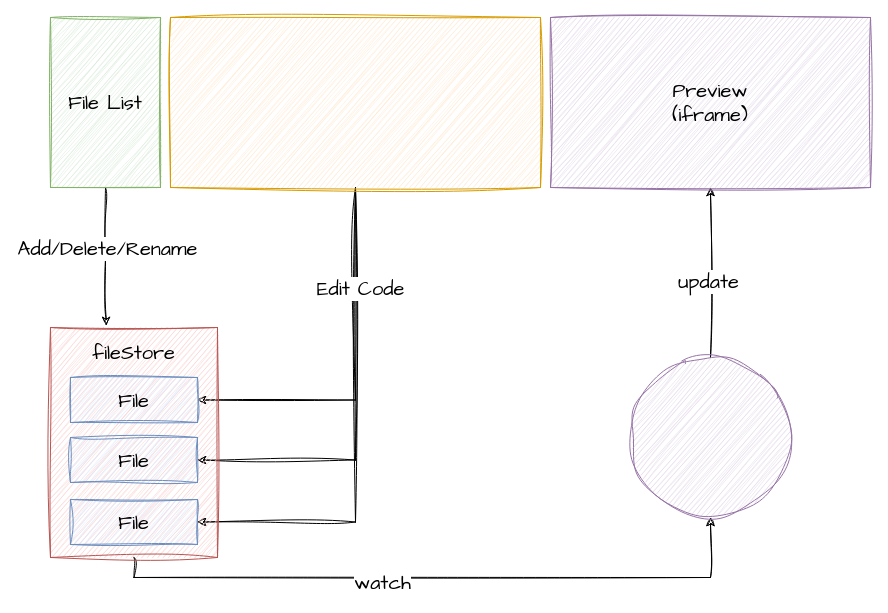
This 888x613 diagram has some shape labels left out. Each missing label, with the centre of its shape:
Compiler run: the point at 710,437
Editor: the point at 355,102
